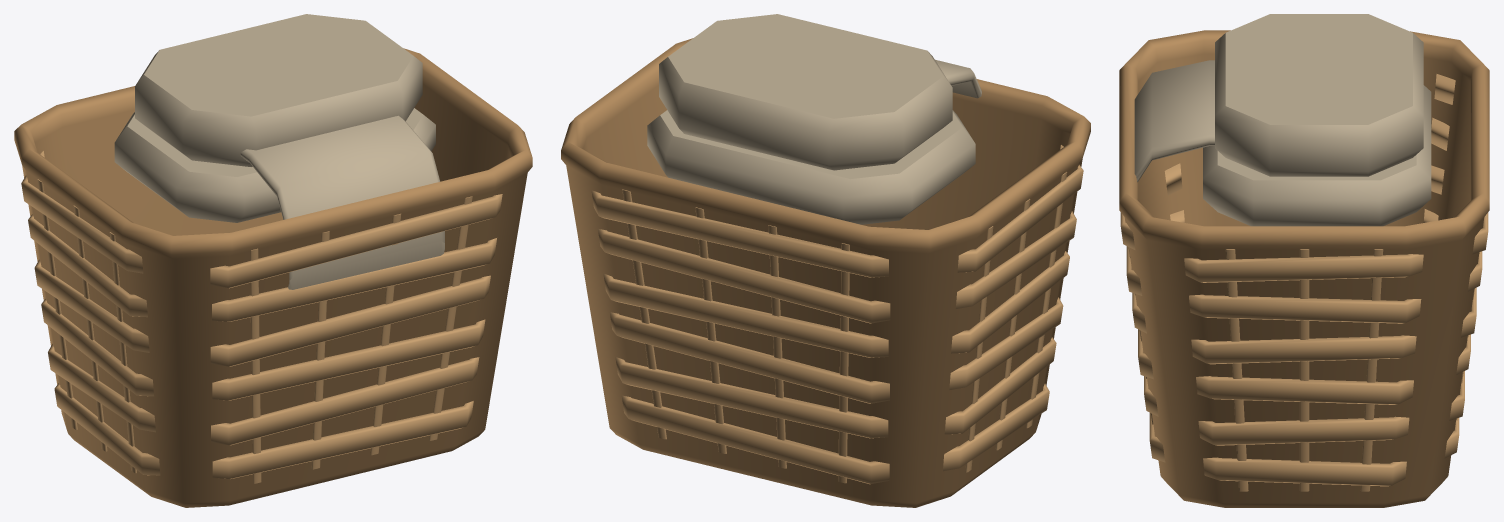
Rendered from original-basket-blanket.glb.
The picture shows the model from 3 angles, left to right: view 1: azimuth 30°, elevation 25°; view 2: azimuth 150°, elevation 25°; view 3: azimuth 270°, elevation 25°; orthographic projection. The views are drawn at different scales.
Parts seen in each view (by area): view 1: original-basket-blanket; view 2: original-basket-blanket; view 3: original-basket-blanket.
Boxes of the visible parts, box(x1,y1,x2,y2) form: original-basket-blanket: box(14, 14, 532, 507); original-basket-blanket: box(561, 14, 1090, 507); original-basket-blanket: box(1119, 14, 1489, 507).
Size of the model in its own units: 0.45 by 0.38 by 0.35.
